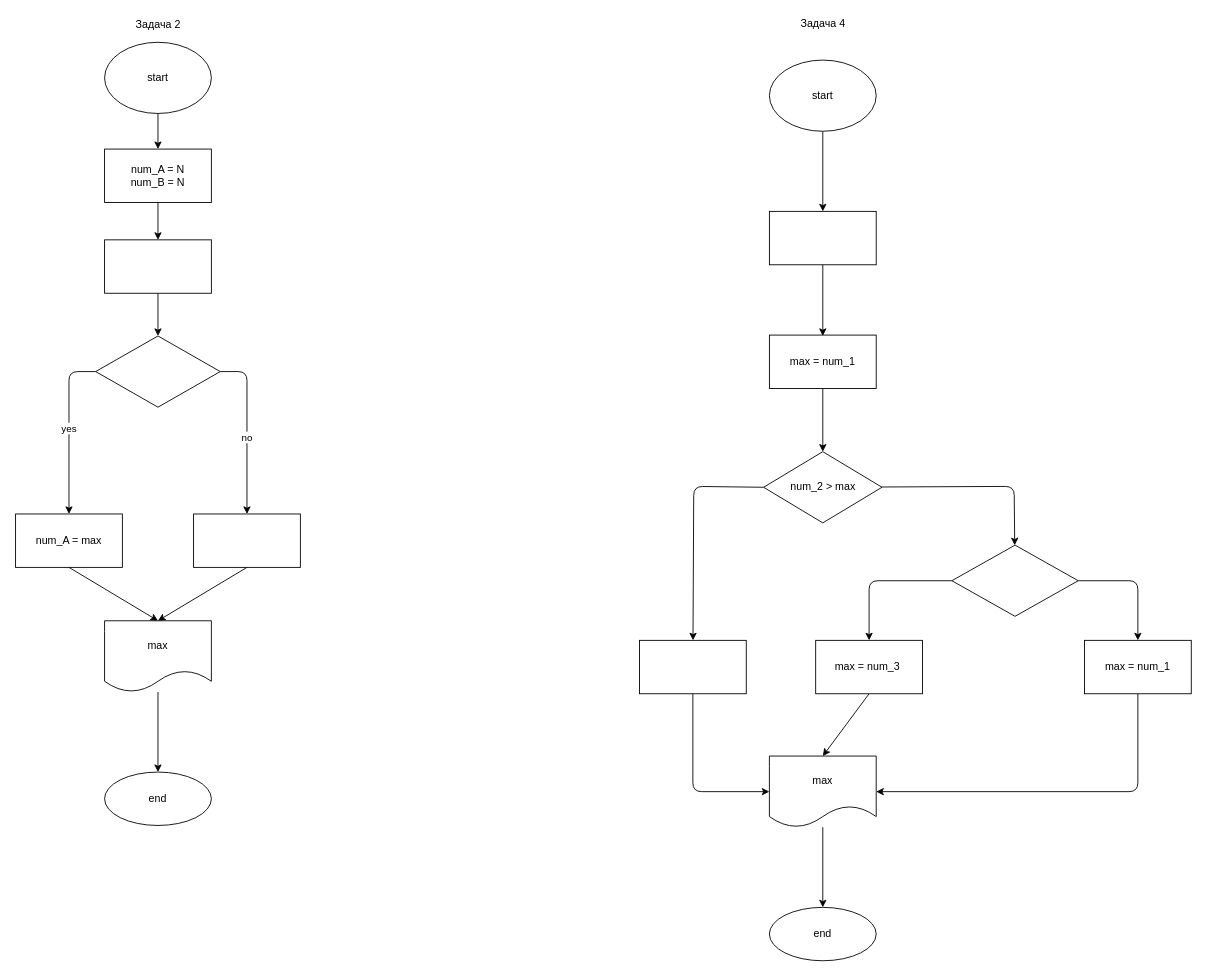
The diagram is 1207 pixels wide and 976 high, and some of its shapes have lost their labels. The box of each missing label's shape, as (x1, y1, x2, y2) in pixels:
max = 0: (104, 239, 211, 293)
max = num_2: (639, 639, 746, 694)
num_1 = N num_2 = N num_3 = N: (769, 210, 876, 265)
num_3 > max: (951, 544, 1078, 616)
num_A > num_B: (95, 335, 220, 407)
num_B = max: (193, 513, 300, 567)
